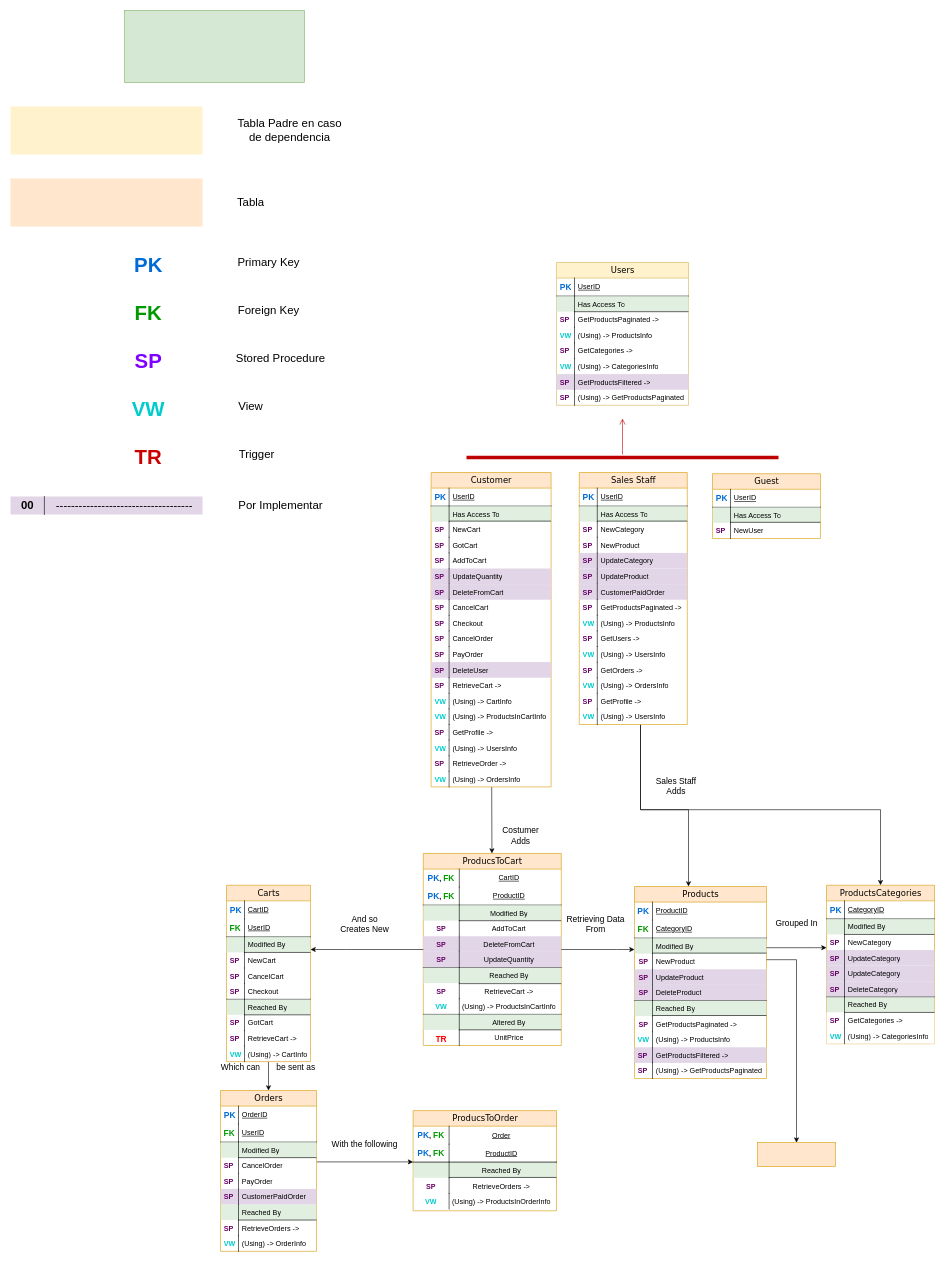
Some shapes in this 945 by 1264 pixel diagram are drawn without their labels. Here are the shapes that lost their labels. From the top down, the centre of each, then its label:
At (214,46): "LEYENDA".
At (796,1154): "ProductsStates".
